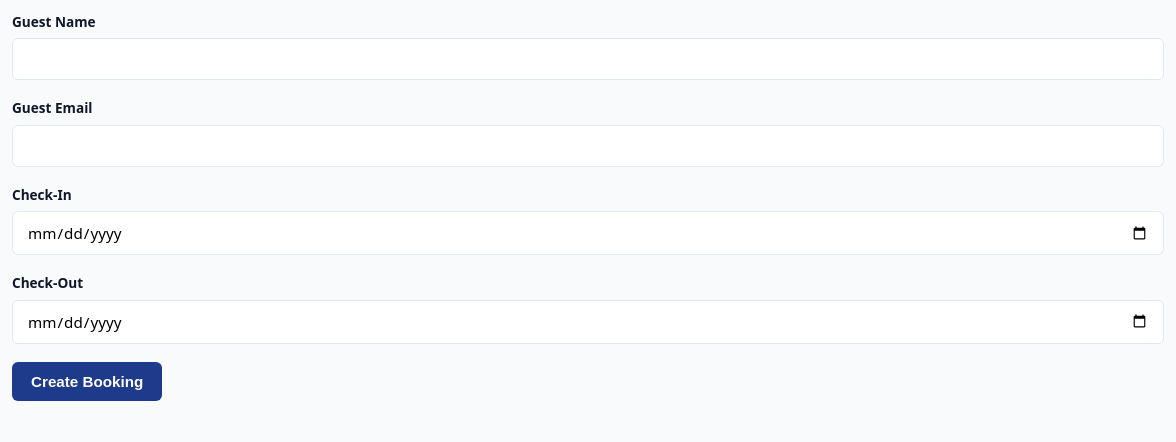
Test case: BookingForm › shows API error on booking fail
This screenshot has width=1176, height=442.
Type "Mary" into the field labelled "Guest Name".
click(588, 59); type("Mary")  # box top-left (12, 38), bottom-right (1164, 80)
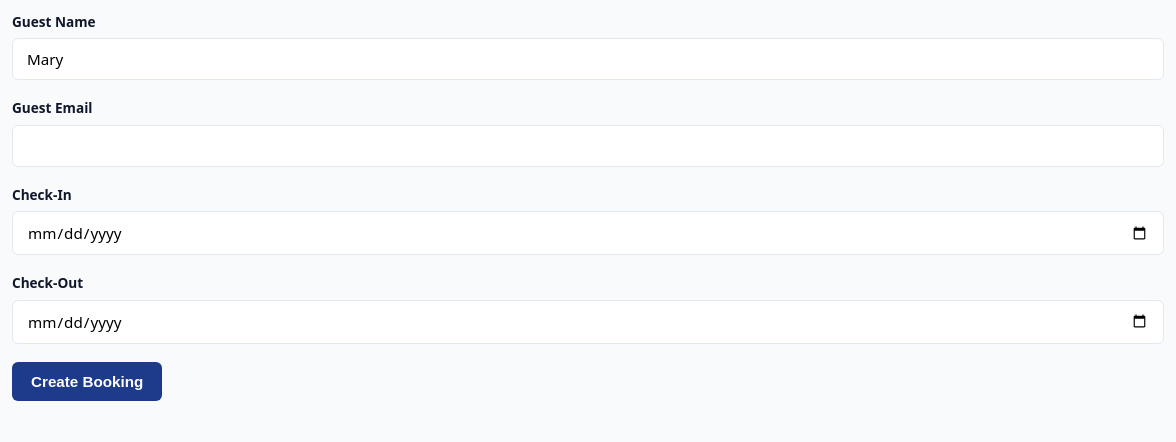
Type "mary@ex.com" into the field labelled "Guest Email".
click(588, 146); type("mary@ex.com")  # box top-left (12, 125), bottom-right (1164, 167)
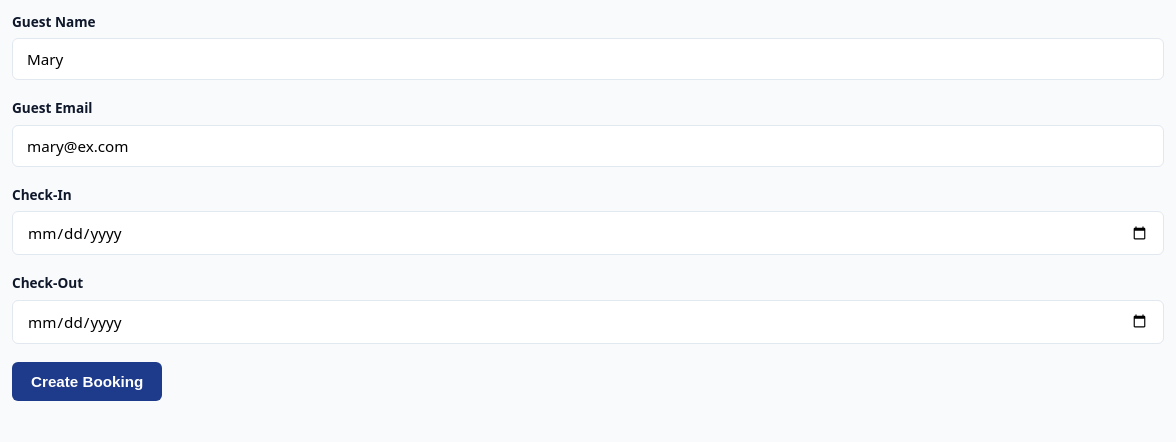
Type "2023-01-15" into the date field labelled "Check-In".
click(588, 233); type("2023-01-15")  # box top-left (12, 211), bottom-right (1164, 255)
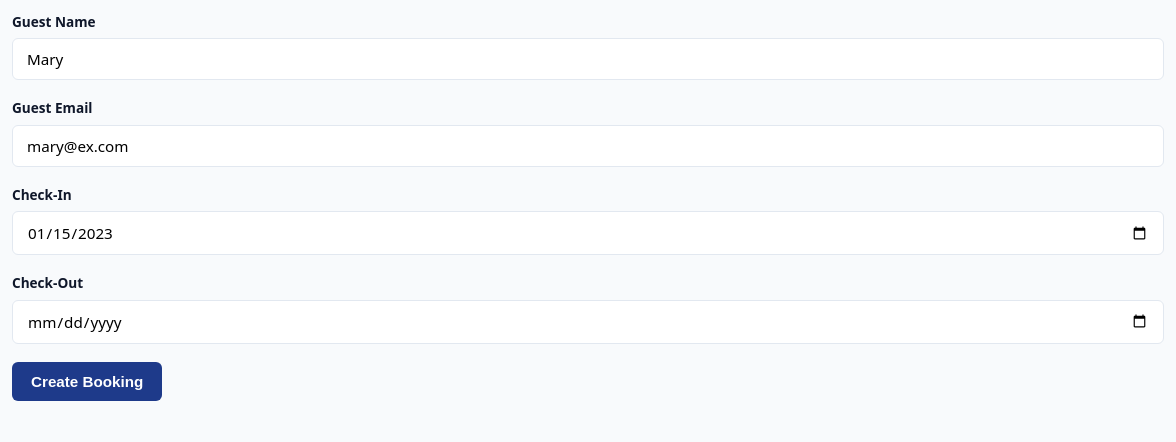
Type "2023-01-20" into the date field labelled "Check-Out".
click(588, 322); type("2023-01-20")  # box top-left (12, 300), bottom-right (1164, 344)
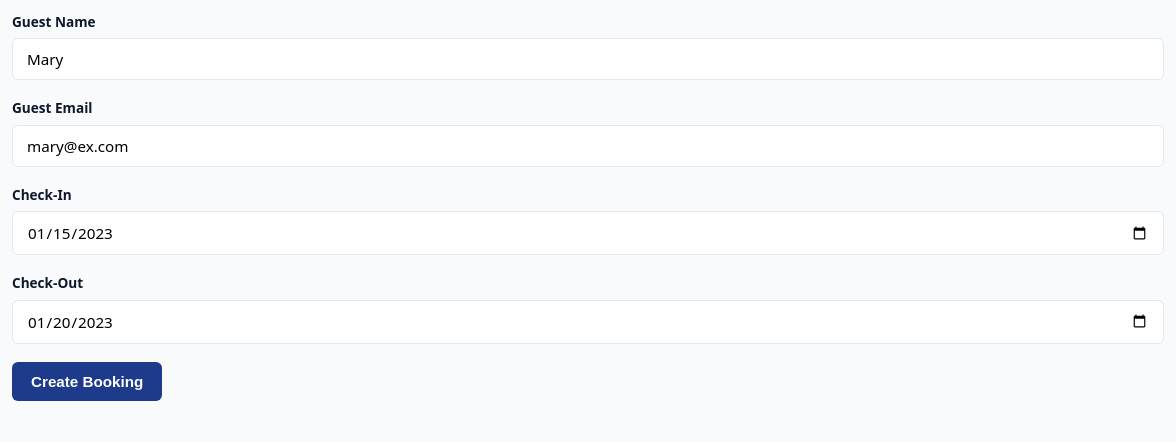
Click the button "Create Booking".
click(87, 381)  # box top-left (12, 362), bottom-right (162, 401)
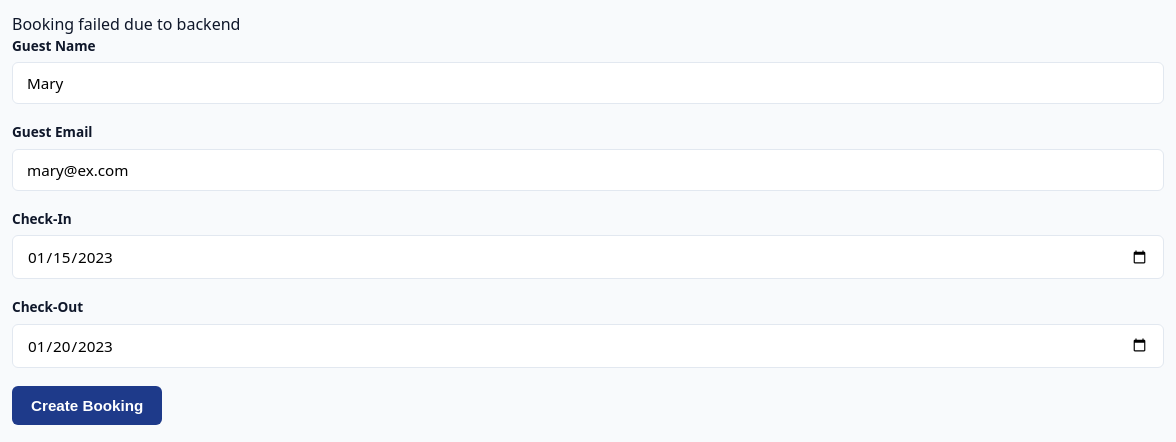
expect the text "Booking failed due to backend" is shown: met, box top-left (12, 13), bottom-right (240, 35)
